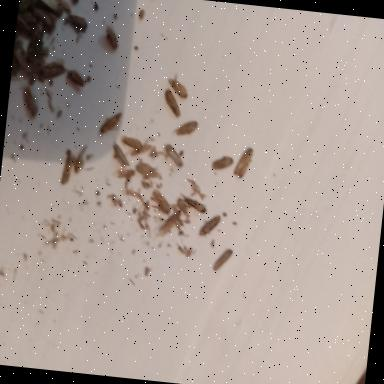pbw: (158, 208, 182, 242), (70, 146, 96, 177), (36, 60, 67, 85), (119, 136, 151, 158), (234, 146, 254, 180), (162, 90, 184, 120), (150, 189, 173, 216), (179, 193, 208, 214), (20, 88, 39, 120), (134, 161, 164, 181), (99, 110, 122, 136), (31, 7, 55, 31), (163, 145, 185, 170), (174, 118, 199, 140), (111, 143, 133, 168), (14, 49, 34, 76), (199, 214, 221, 238), (213, 247, 233, 273), (60, 150, 74, 186), (168, 78, 190, 100), (66, 15, 88, 36), (113, 165, 137, 184), (210, 154, 234, 172), (104, 26, 121, 51), (36, 0, 64, 15), (16, 14, 33, 34), (66, 71, 84, 88), (57, 0, 73, 14), (18, 0, 35, 12)
